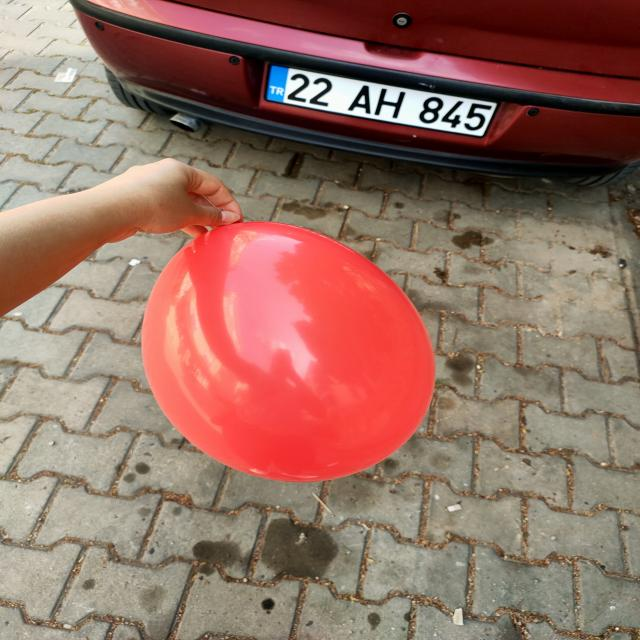red: (144, 222, 434, 483)
